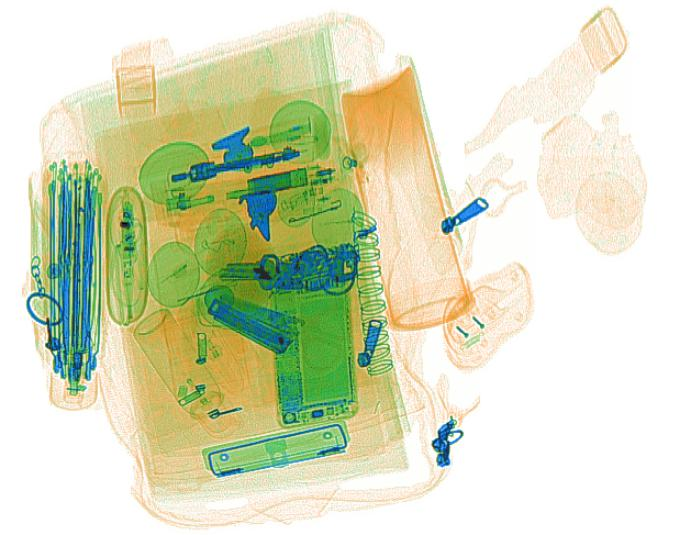plasticBottleWithaNozzle: (177, 297, 248, 395)
pressure: (133, 308, 244, 438)
scissors: (217, 294, 354, 374)
